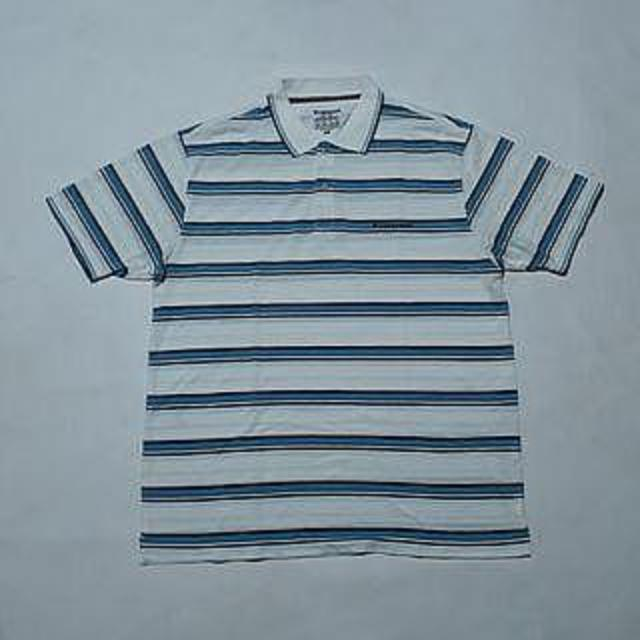T_SHIRT: (21, 61, 613, 574)
